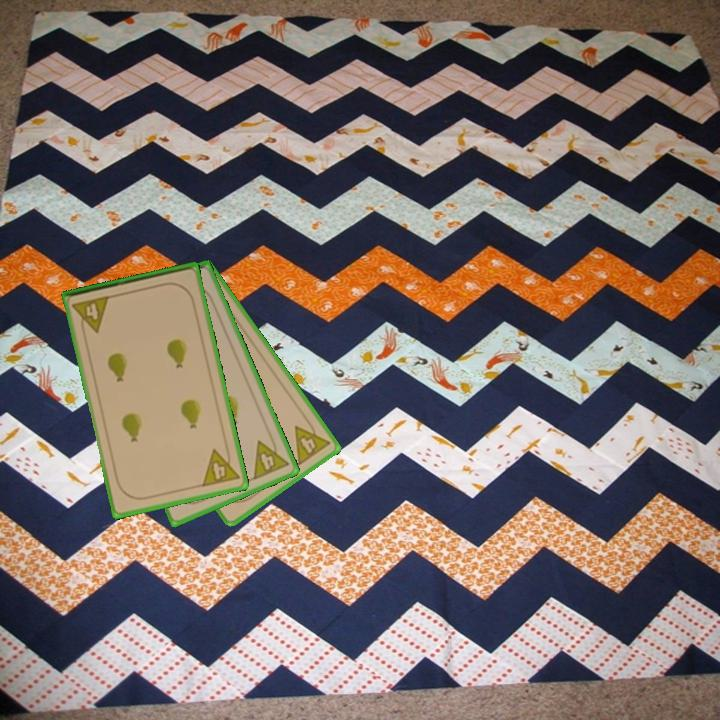4p: (291, 415, 333, 469), (249, 432, 292, 483), (198, 443, 242, 490), (69, 292, 113, 338)
